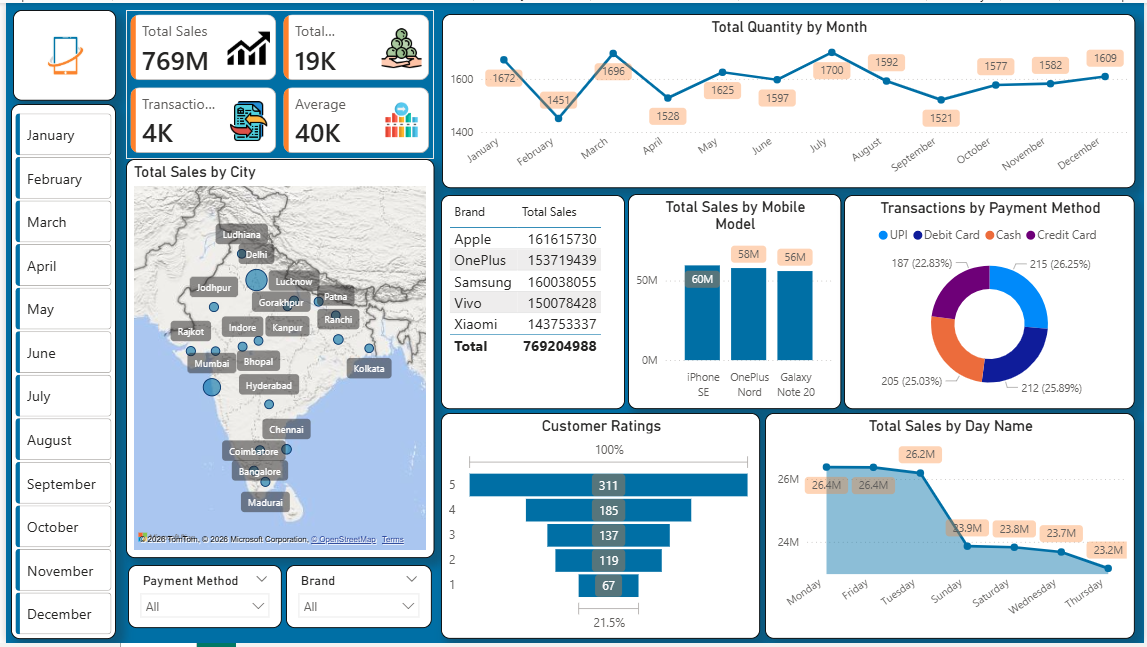

The dashboard page shown, as its layout file describes it:
{"tool":"powerbi","page":{"name":"Page 1","canvas":[1280,720],"ordinal":0},"visuals":[{"type":"shape","box":[7.9,7.9,115.9,102.4],"z":0},{"type":"image","box":[18,15.8,97.9,86.6],"z":1000},{"type":"shape","box":[5.6,113.6,118.1,601.9],"z":2000},{"type":"advancedSlicerVisual","fields":{"Values":["Sales_Data.Date.Variation.Date Hierarchy.Month"]},"box":[5.6,119.2,118.1,598.5],"z":3000},{"type":"cardVisual","fields":{"Data":["Sales_Data.Total Sales","Sales_Data.Total Quantity","Sales_Data.Transactions","Sales_Data.Average"]},"box":[135,7.9,346.5,167.6],"z":4000},{"type":"map","fields":{"Category":["Sales_Data.City"],"Size":["Sales_Data.Total Sales"]},"box":[135,175.5,346.5,448.9],"z":5000},{"type":"lineChart","fields":{"Y":["Sales_Data.Total Quantity"],"Category":["Sales_Data.Date.Variation.Date Hierarchy.Month","Sales_Data.Date.Variation.Date Hierarchy.Day"]},"box":[490.5,12.4,779.6,195.8],"z":6000},{"type":"clusteredColumnChart","fields":{"Category":["Sales_Data.Mobile Model"],"Y":["Sales_Data.Total Sales"]},"box":[699.8,214.9,239.6,241.9],"z":7000},{"type":"donutChart","fields":{"Category":["Sales_Data.Payment Method"],"Y":["Sales_Data.Transactions"]},"box":[942.8,216,327.4,240.8],"z":8000},{"type":"tableEx","fields":{"Values":["Sales_Data.Brand","Sales_Data.Total Sales"]},"box":[489.4,216,207,240.8],"z":9000},{"type":"funnel","title":"Customer Ratings","fields":{"Category":["Sales_Data.Customer Ratings"],"Y":["CountNonNull(Sales_Data.Customer Ratings)"]},"box":[489.4,461.2,358.9,254.2],"z":10000},{"type":"areaChart","title":"Total Sales by Day Name","fields":{"Y":["Sales_Data.Total Sales"],"Category":["Sales_Data.Day Name"]},"box":[853.9,461.2,416.2,254.2],"z":11000},{"type":"slicer","fields":{"Values":["Sales_Data.Payment Method"]},"box":[137.2,632.2,173.2,70.9],"z":12000},{"type":"slicer","fields":{"Values":["Sales_Data.Brand"]},"box":[315,632.2,164.2,70.9],"z":13000}]}

Visuals, with their boxes in screenshot pixels (x1, y1, x2, y2), scaled from the page's 1280x720 canvas onto the 1147x647 screenshot:
shape: rect(7, 7, 111, 99)
image: rect(16, 14, 104, 92)
shape: rect(5, 102, 111, 643)
advancedSlicerVisual - Sales_Data.Date.Variation.Date Hierarchy.Month: rect(5, 107, 111, 645)
cardVisual - Sales_Data.Total Sales x Sales_Data.Total Quantity: rect(121, 7, 431, 158)
map - Sales_Data.City x Sales_Data.Total Sales: rect(121, 158, 431, 561)
lineChart - Sales_Data.Total Quantity x Sales_Data.Date.Variation.Date Hierarchy.Month: rect(440, 11, 1138, 187)
clusteredColumnChart - Sales_Data.Mobile Model x Sales_Data.Total Sales: rect(627, 193, 842, 410)
donutChart - Sales_Data.Payment Method x Sales_Data.Transactions: rect(845, 194, 1138, 410)
tableEx - Sales_Data.Brand x Sales_Data.Total Sales: rect(439, 194, 624, 410)
"Customer Ratings" funnel: rect(439, 414, 760, 643)
"Total Sales by Day Name" areaChart: rect(765, 414, 1138, 643)
slicer - Sales_Data.Payment Method: rect(123, 568, 278, 632)
slicer - Sales_Data.Brand: rect(282, 568, 429, 632)
